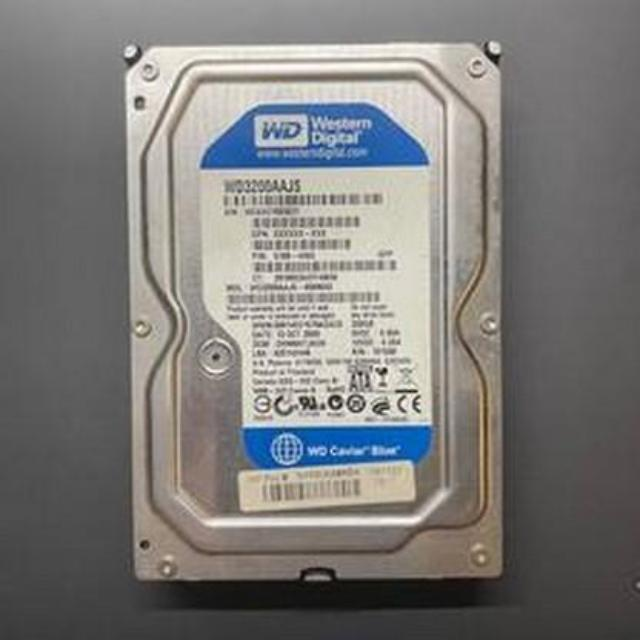DISK: (128, 39, 512, 587)
